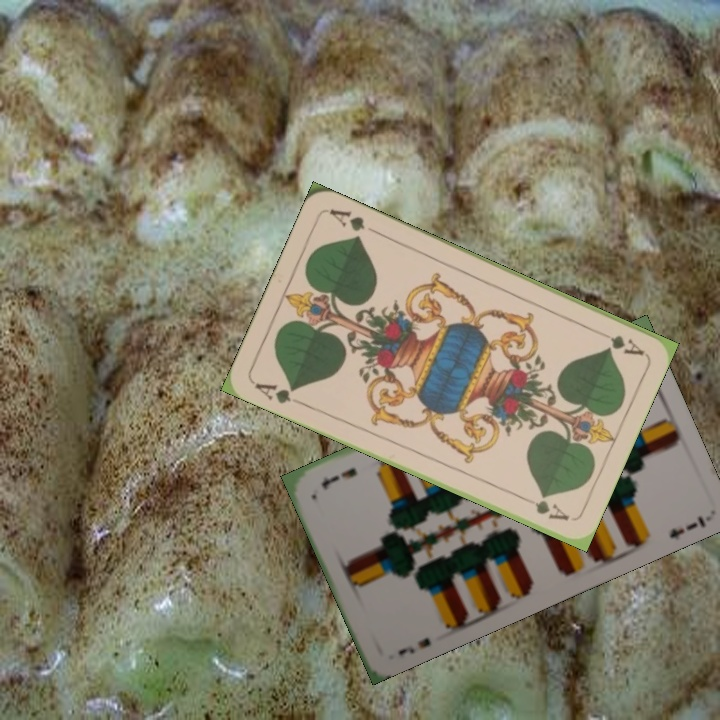E7: (393, 633, 433, 658)
GA: (591, 326, 647, 358), (250, 379, 307, 408)
